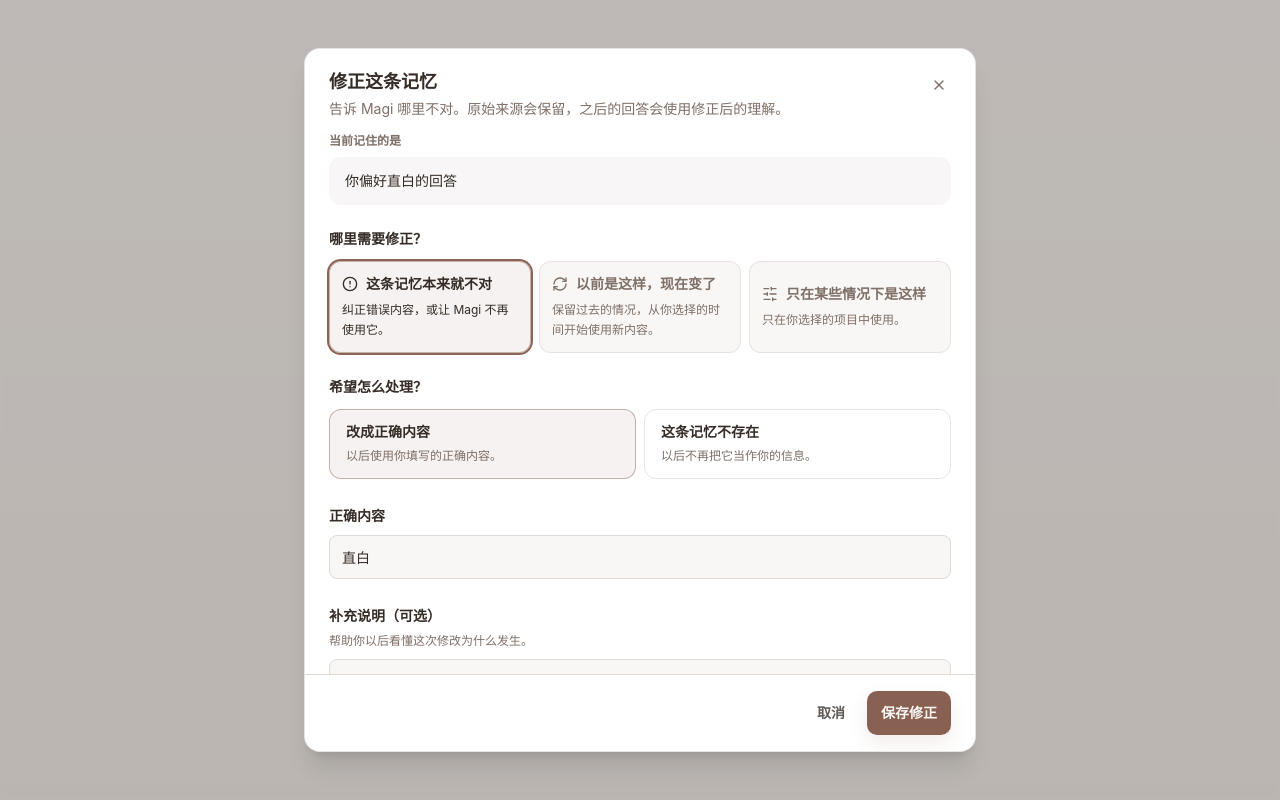
Test case: MemoryCorrectionDialog request safety › explains when the selected change time predates the memory
The width and height of the screenshot is (1280, 800).
Click the button "以前是这样，现在变了 保留过去的情况，从你选择的时间开始使用新内容。" at (640, 307), box top-left (539, 261), bottom-right (741, 353)
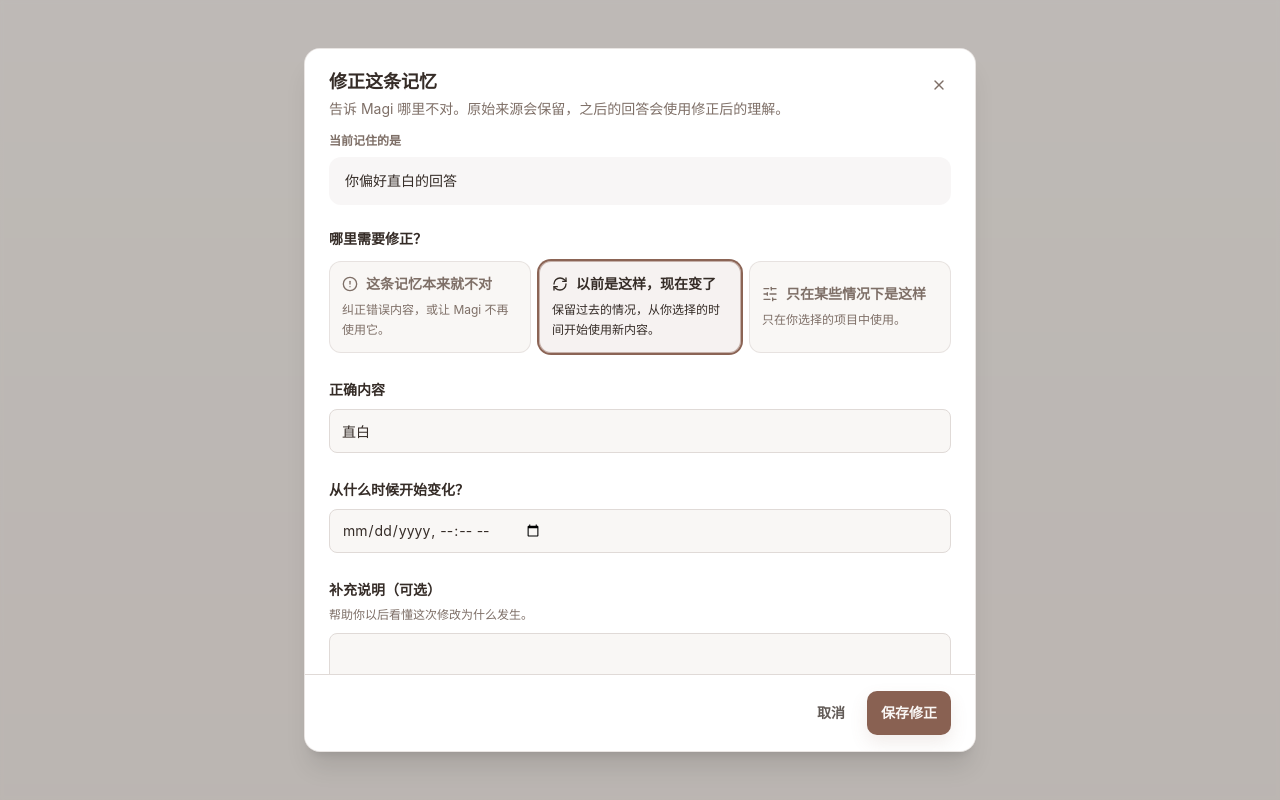
Replace the text in the field labelled "正确内容" with "简洁" at (640, 431), box top-left (329, 409), bottom-right (951, 453)
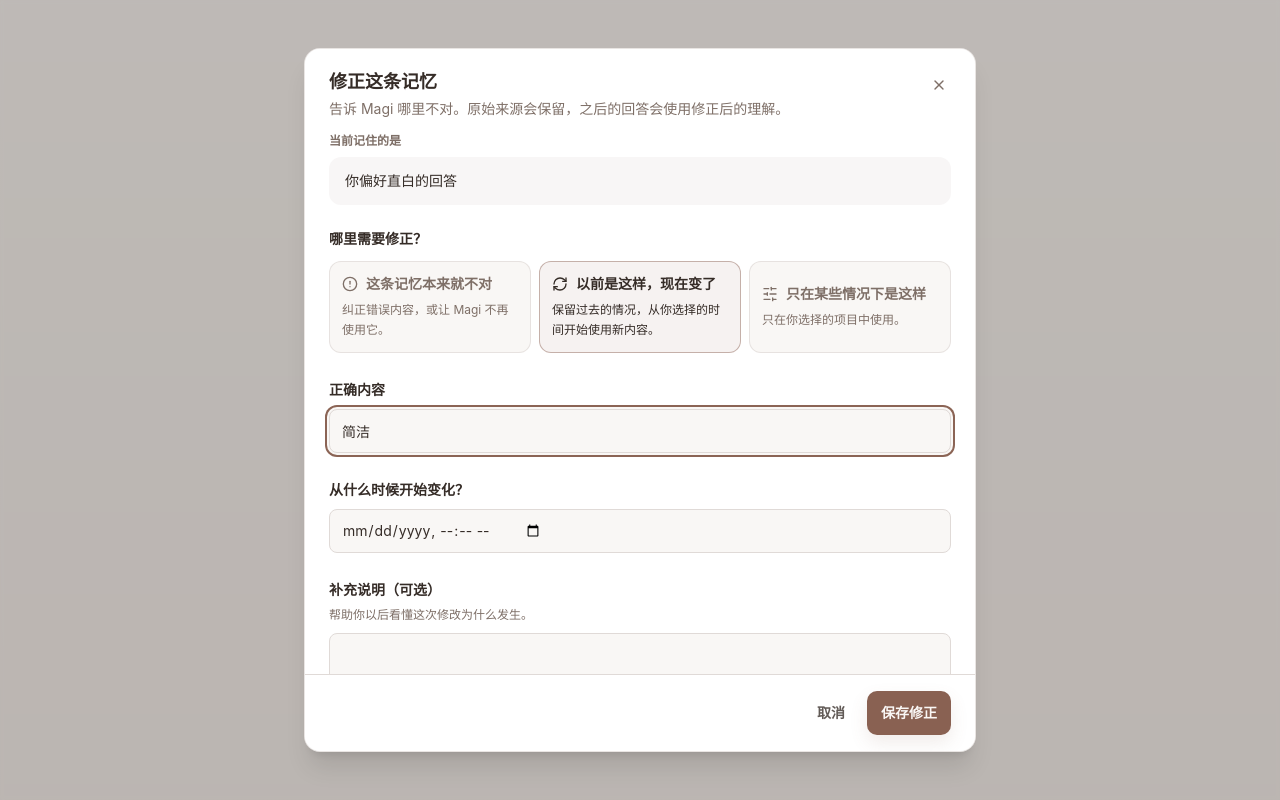
Type "2020-01-01T08:00" into the field labelled "从什么时候开始变化？" at (640, 531), box top-left (329, 509), bottom-right (951, 553)
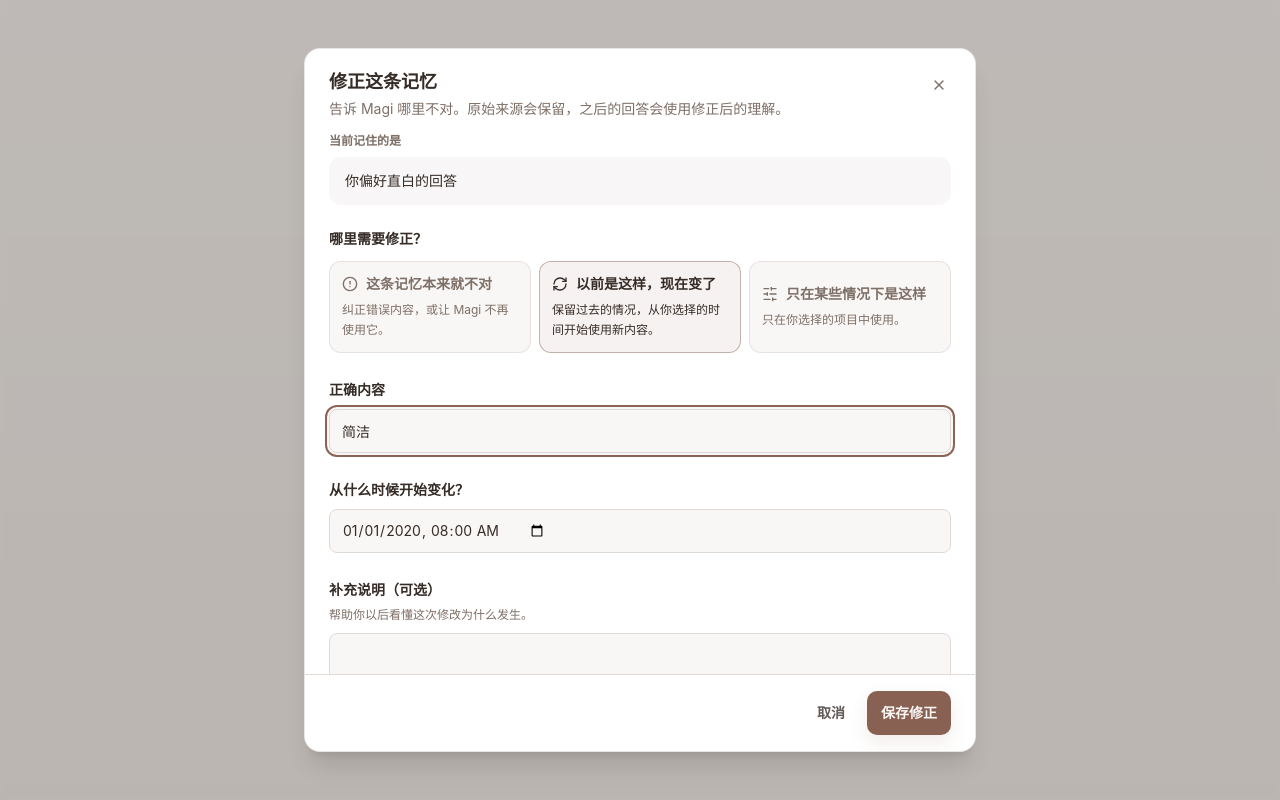
Click the button "保存修正" at (909, 713), box top-left (867, 691), bottom-right (951, 735)
(page scrolled)
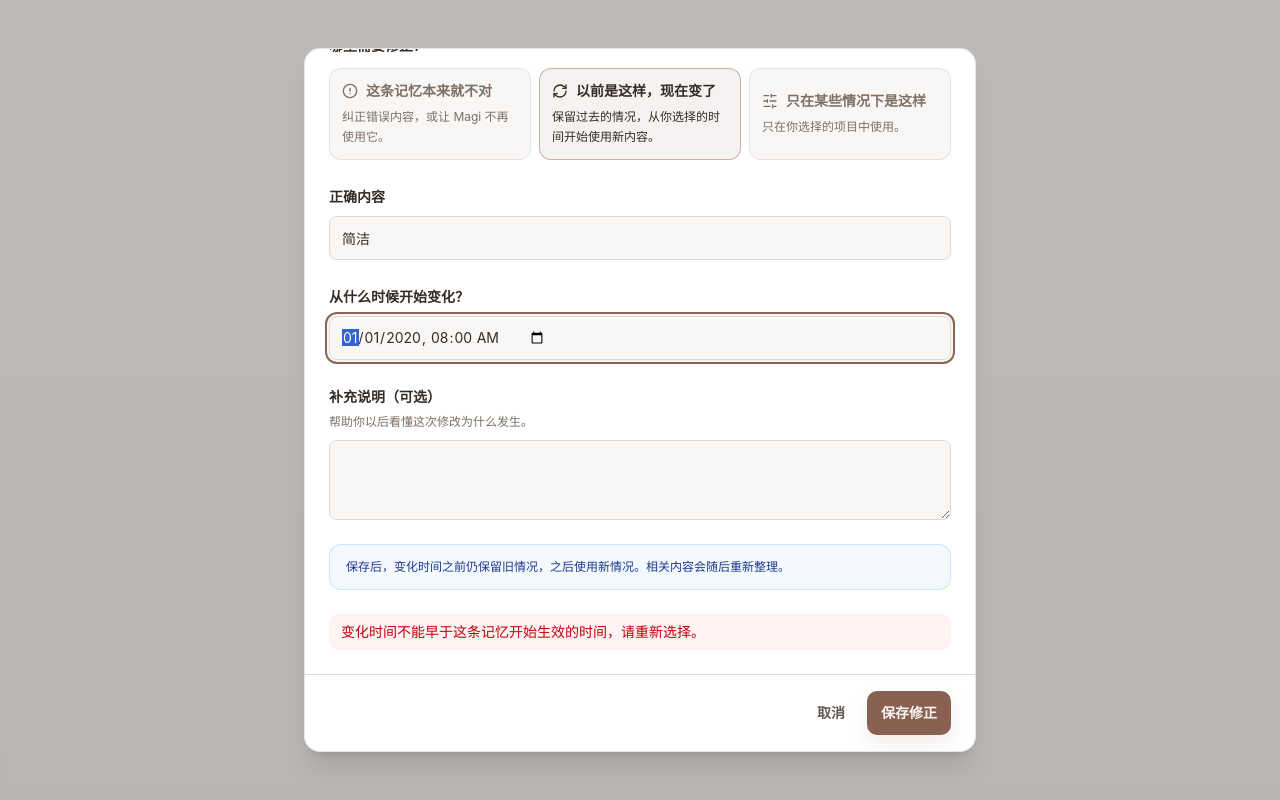
Expected: the message shows "变化时间不能早于这条记忆开始生效的时间", top-left (341, 623), bottom-right (705, 640)
